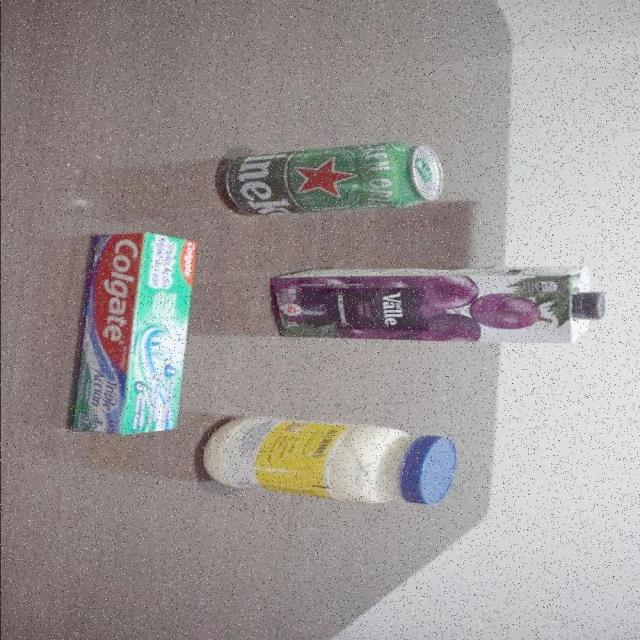BeerCan: (220, 140, 445, 221)
Mayonnaise: (198, 416, 458, 508)
Toothpaste: (63, 228, 199, 440)
